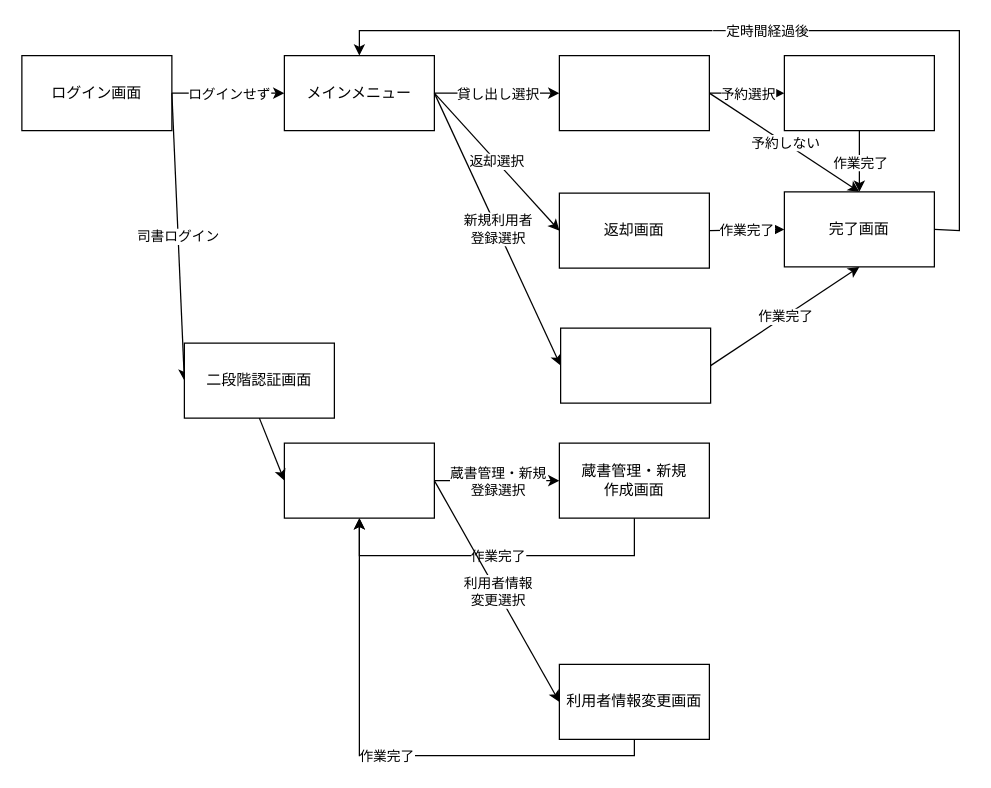
This 991x788 diagram has some shape labels left out. The shapes that lost their labels are listed below. From the top down, each one's centre as x and y in pixels, then its label:
At pixel 633 92: "貸し出し画面".
At pixel 858 92: "予約画面".
At pixel 635 365: "新規利用者登録画面".
At pixel 358 480: "司書メニュー".
